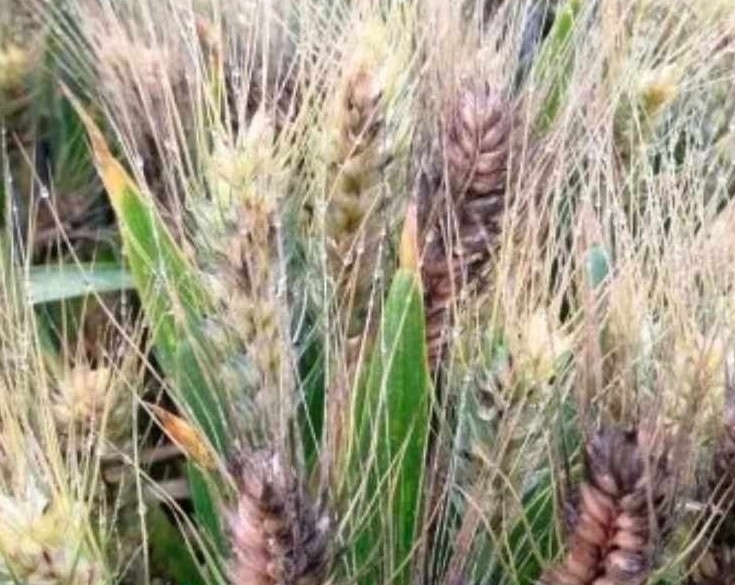Wheat scab: (416, 59, 534, 305), (533, 422, 689, 585)
